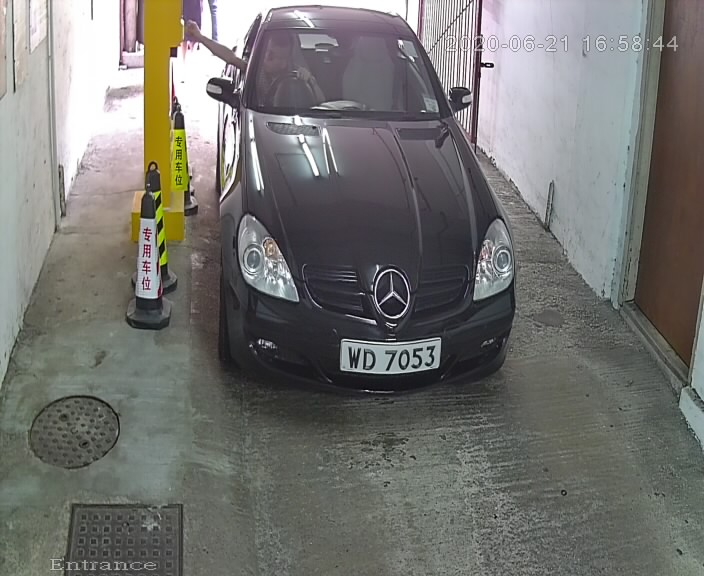privatecar: (193, 1, 530, 416)
